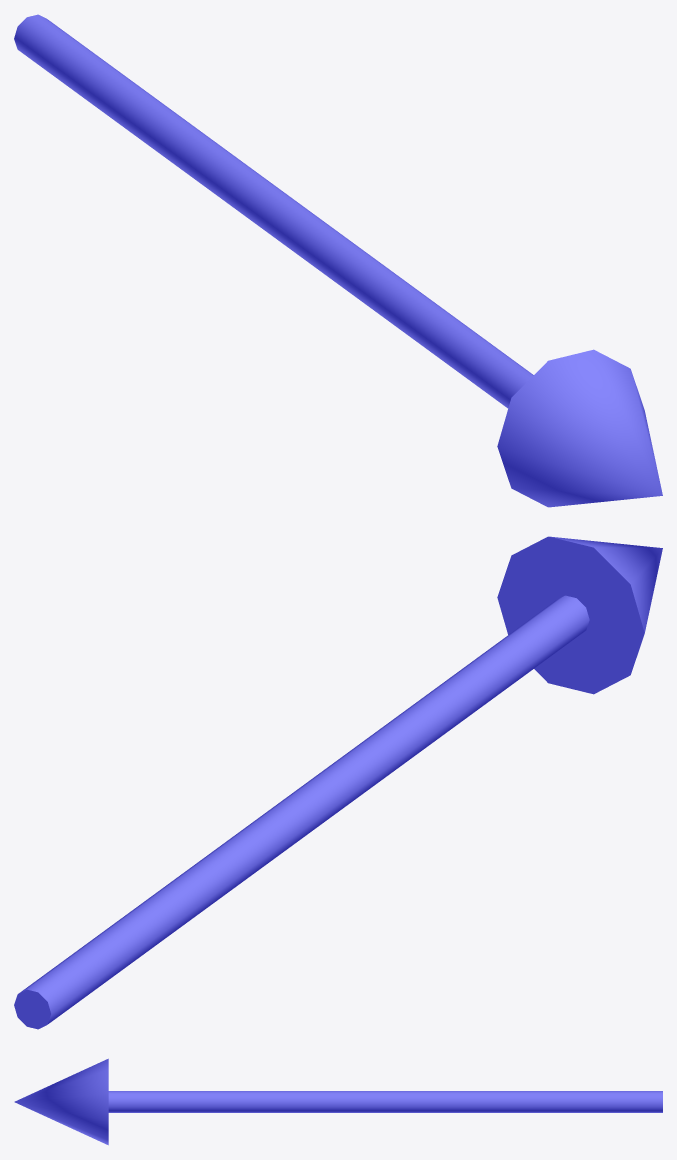
Rendered from ZArrow.dae.
The picture shows the model from 3 angles, top to bottom: view 1: azimuth 30°, elevation 25°; view 2: azimuth 150°, elevation 25°; view 3: azimuth 270°, elevation 25°; orthographic projection. The views are drawn at different scales.
Visible parts, largest first — view 1: ZAXIS; view 2: ZAXIS; view 3: ZAXIS.
Boxes of the visible parts, box(x1,y1,x2,y2) form: ZAXIS: box(14, 14, 662, 507); ZAXIS: box(14, 536, 662, 1029); ZAXIS: box(14, 1058, 662, 1145).
Bounding box in the file's own units: 0.1351 × 0.1285 × 1.
